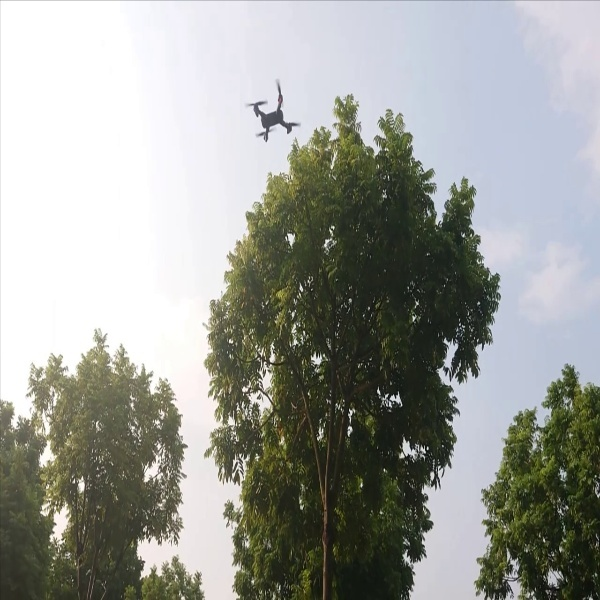drone: (246, 76, 301, 140)
